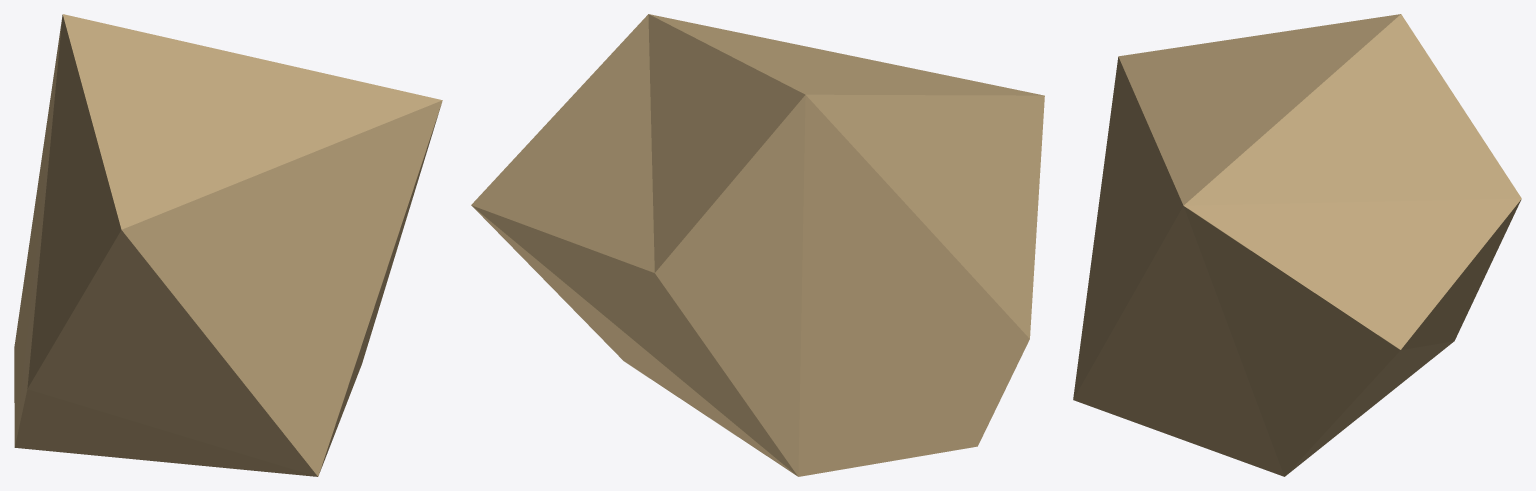
Rendered from Rock-C07.fbx.
3 views of the same model, side by side, from view 1: azimuth 30°, elevation 25°; view 2: azimuth 150°, elevation 25°; view 3: azimuth 270°, elevation 25° (orthographic). The views are drawn at different scales.
Visible parts, largest first — view 1: Rock-C07; view 2: Rock-C07; view 3: Rock-C07.
Part boxes in pixels (bbox=[...]): Rock-C07: bbox=[14, 14, 442, 476]; Rock-C07: bbox=[471, 14, 1044, 476]; Rock-C07: bbox=[1073, 14, 1521, 476].
Size of the model in its own units: 33.82 by 25.79 by 29.91.
